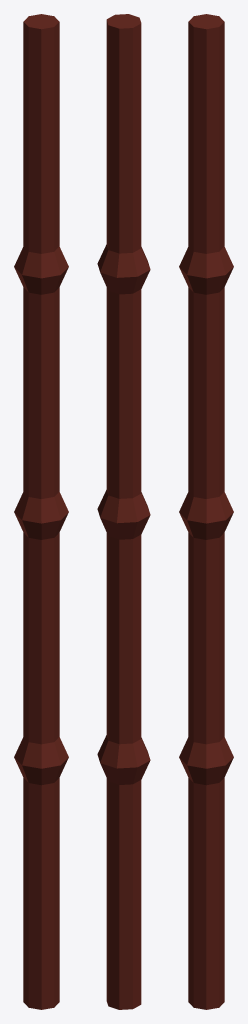
File: baton.fbx
3 renders of one model, left to right at view 1: azimuth 90°, elevation 25°; view 2: azimuth 210°, elevation 25°; view 3: azimuth 270°, elevation 25°, orthographic.
Parts seen in each view (by area): view 1: Baton; view 2: Baton; view 3: Baton.
Boxes of the visible parts, box(x1,y1,x2,y2) form: Baton: box(14, 14, 68, 1009); Baton: box(97, 14, 150, 1009); Baton: box(179, 14, 233, 1009).
Size of the model in its own units: 7.62 by 150 by 7.62.
